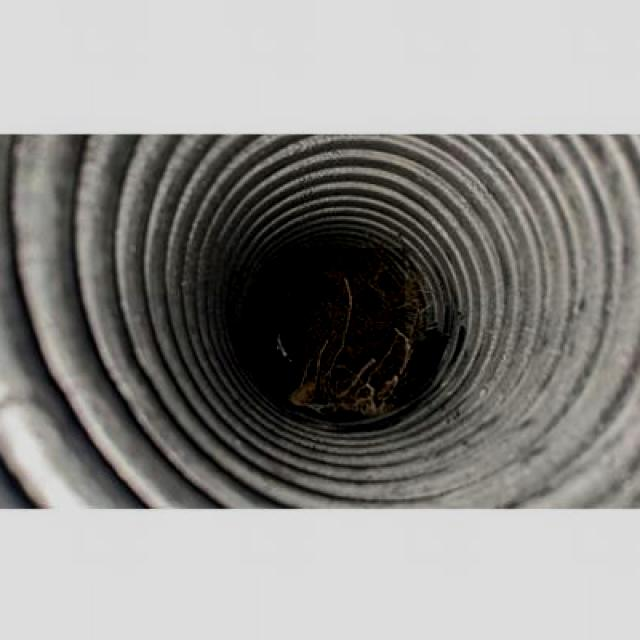root: (295, 300, 427, 414)
